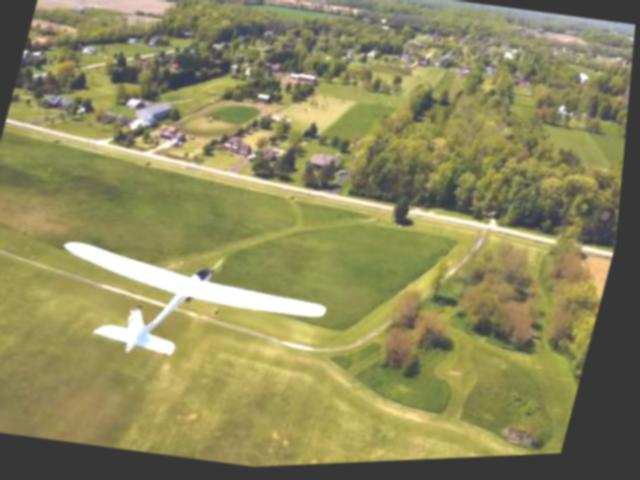uav: (34, 214, 360, 400)
